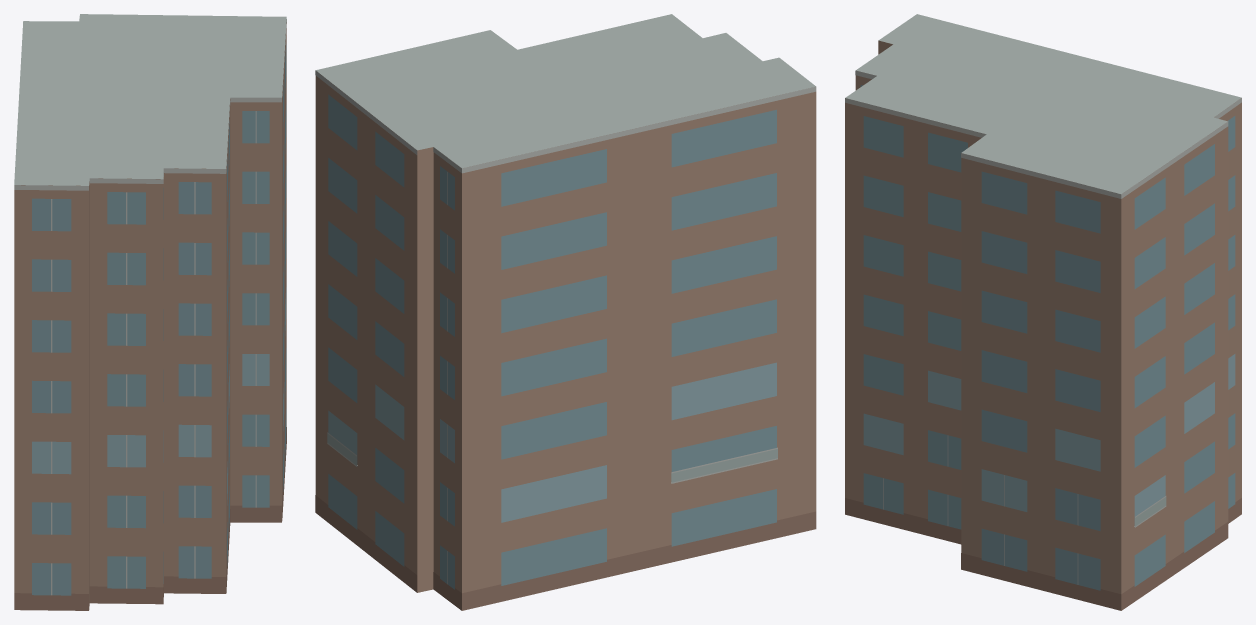
Rendered from survey-upis-32747389.glb.
The picture shows the model from 3 angles, left to right: view 1: azimuth 30°, elevation 25°; view 2: azimuth 150°, elevation 25°; view 3: azimuth 270°, elevation 25°; orthographic projection. The views are drawn at different scales.
Visible parts, largest first — view 1: survey-upis-32747389.tmp; view 2: survey-upis-32747389.tmp; view 3: survey-upis-32747389.tmp.
Boxes of the visible parts, x1,y1,x2,y2 form: survey-upis-32747389.tmp: (14,14,286,610); survey-upis-32747389.tmp: (315,14,816,610); survey-upis-32747389.tmp: (845,14,1241,610).
Size of the model in its own units: 19.82 by 21.35 by 18.44.
